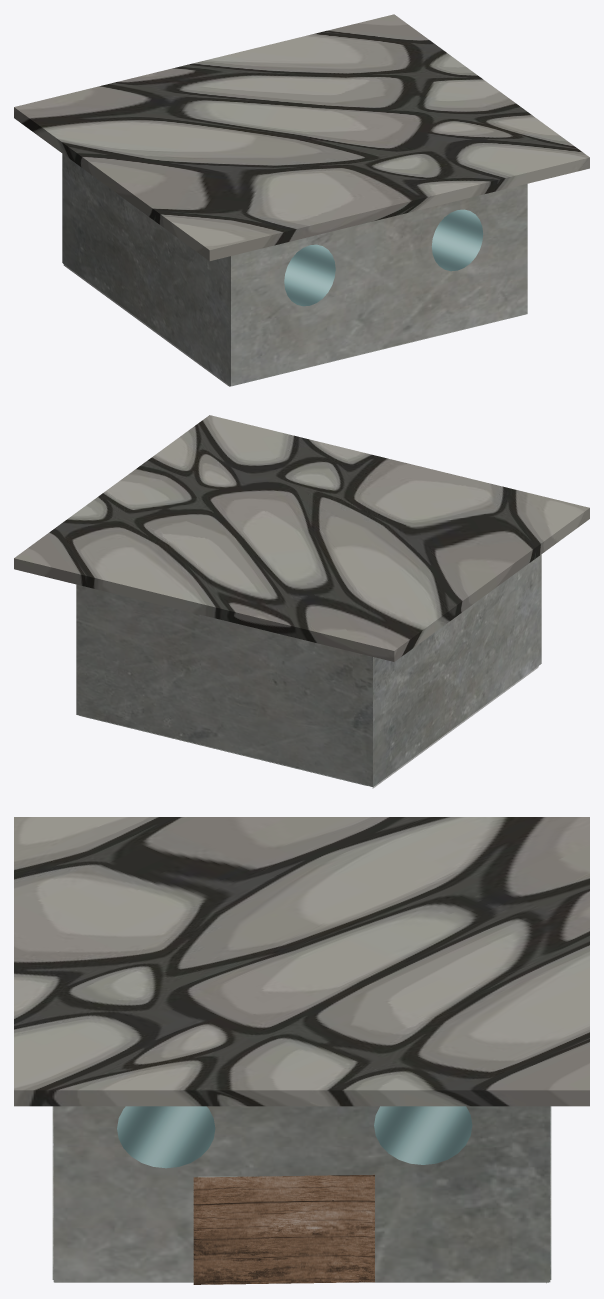
The model's file is principal.obj.
3 renders of one model, top to bottom at view 1: azimuth 30°, elevation 25°; view 2: azimuth 150°, elevation 25°; view 3: azimuth 270°, elevation 25°, orthographic. The views are drawn at different scales.
Visible parts, largest first — view 1: principal:pasted__pCube2group, principal:grouppasted__polySurface11pasted__polySurface2pasted__, principal:grouppasted__pasted__pasted__pDisc1pasted__pasted__gro, principal:grouppasted__pasted__pDisc1pasted__group1; view 2: principal:pasted__pCube2group, principal:grouppasted__polySurface11pasted__polySurface2pasted__; view 3: principal:pasted__pCube2group, principal:grouppasted__polySurface11pasted__polySurface2pasted__, principal:grouppasted__pCube16, principal:grouppasted__pasted__pasted__pDisc1pasted__pasted__gro, principal:grouppasted__pPlane2.
Part boxes in pixels (box(x1,y1,x2,y2)): principal:pasted__pCube2group: box(14, 14, 589, 261); principal:grouppasted__polySurface11pasted__polySurface2pasted__: box(62, 154, 527, 386); principal:grouppasted__pasted__pasted__pDisc1pasted__pasted__gro: box(284, 244, 335, 306); principal:grouppasted__pasted__pDisc1pasted__group1: box(431, 209, 483, 271); principal:pasted__pCube2group: box(14, 415, 589, 661); principal:grouppasted__polySurface11pasted__polySurface2pasted__: box(76, 554, 541, 786); principal:pasted__pCube2group: box(14, 817, 589, 1106); principal:grouppasted__polySurface11pasted__polySurface2pasted__: box(53, 1106, 550, 1282); principal:grouppasted__pCube16: box(193, 1174, 374, 1284); principal:grouppasted__pasted__pasted__pDisc1pasted__pasted__gro: box(117, 1106, 472, 1168); principal:grouppasted__pPlane2: box(52, 1106, 551, 1279).
Bounding box in the file's own units: 7.65 × 3.02 × 6.82.
Materials: 5 (5 with a texture image).
